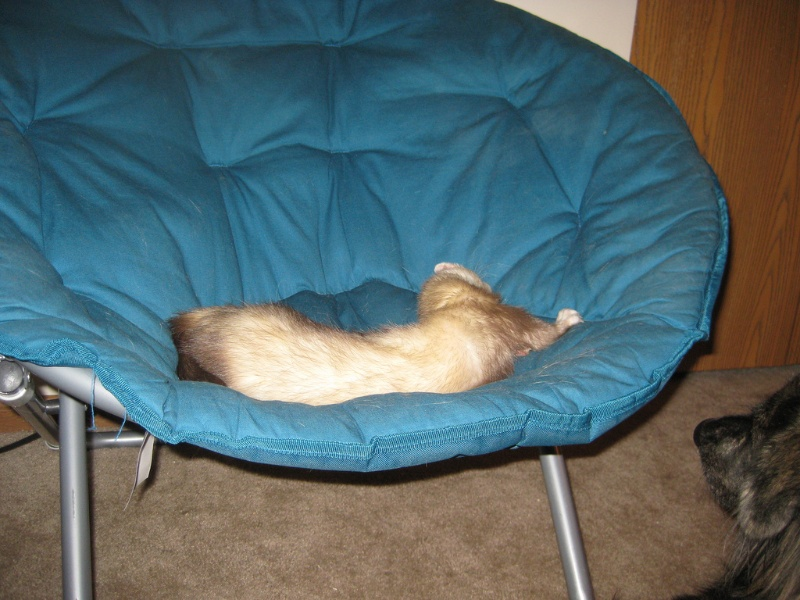dog: (688, 358, 797, 596)
minkish: (167, 255, 587, 413)
